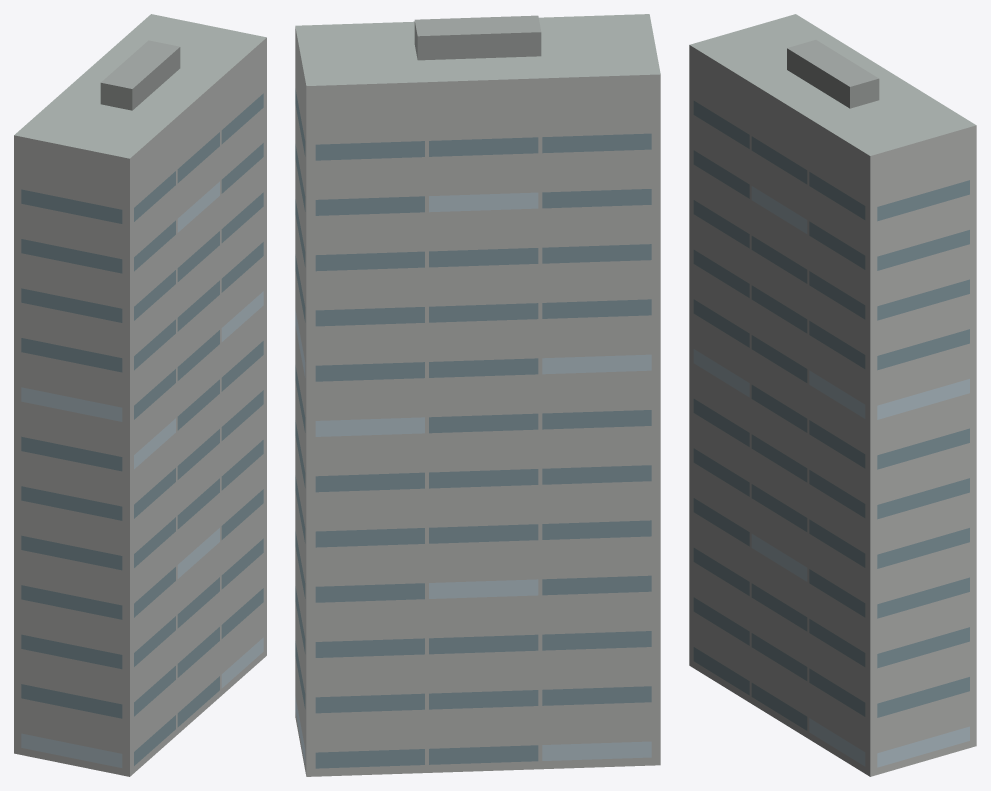
File: fallback-gwanak-dream-town-109.glb
The picture shows the model from 3 angles, left to right: view 1: azimuth 30°, elevation 25°; view 2: azimuth 150°, elevation 25°; view 3: azimuth 270°, elevation 25°; orthographic projection. The views are drawn at different scales.
Parts seen in each view (by area): view 1: fallback-gwanak-dream-town-109; view 2: fallback-gwanak-dream-town-109; view 3: fallback-gwanak-dream-town-109.
Part boxes in pixels (left/top/right/bottom): fallback-gwanak-dream-town-109: left=14, top=14, right=266, bottom=776; fallback-gwanak-dream-town-109: left=295, top=14, right=660, bottom=776; fallback-gwanak-dream-town-109: left=689, top=14, right=976, bottom=776.
Bounding box in the file's own units: 33.68 × 71 × 28.75.
